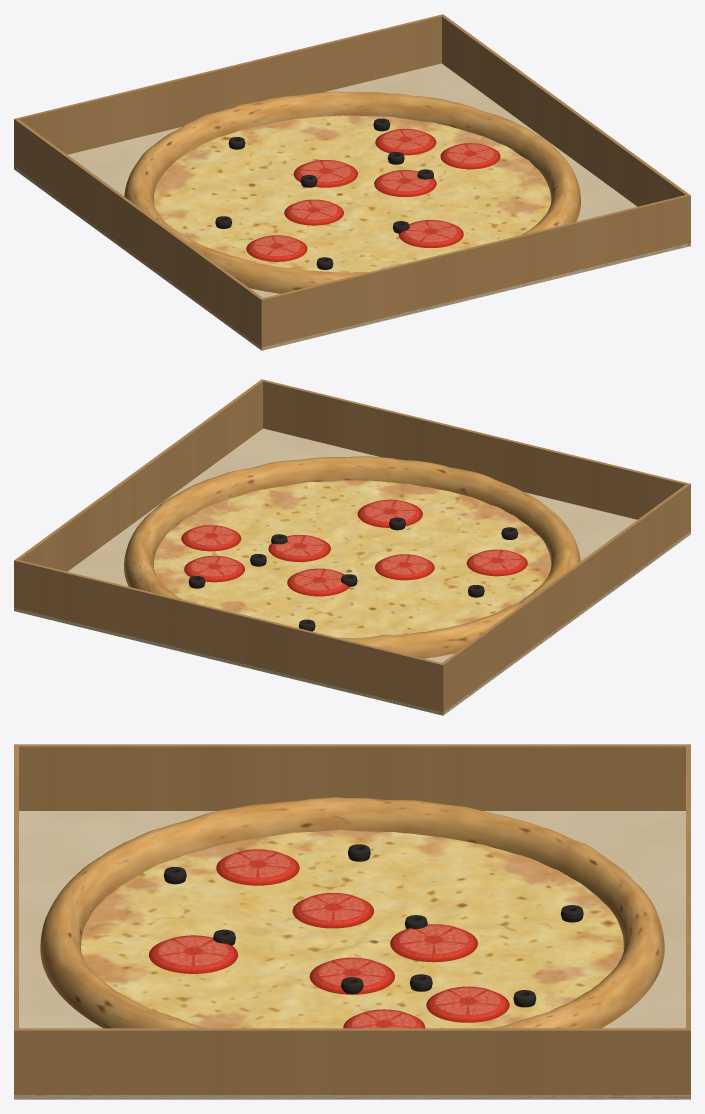
File: pizza-caixa-mussarela.glb
3 views of the same model, one above another, from view 1: azimuth 30°, elevation 25°; view 2: azimuth 150°, elevation 25°; view 3: azimuth 270°, elevation 25° (orthographic). The views are drawn at different scales.
Parts seen in each view (by area): view 1: pizza-caixa-mussarela; view 2: pizza-caixa-mussarela; view 3: pizza-caixa-mussarela.
Part boxes in pixels (bbox=[...]): pizza-caixa-mussarela: bbox=[14, 14, 690, 350]; pizza-caixa-mussarela: bbox=[14, 379, 690, 715]; pizza-caixa-mussarela: bbox=[14, 744, 690, 1099].
Bounding box in the file's own units: 0.4 × 0.045 × 0.4.
Materials: 6 (5 with a texture image).
